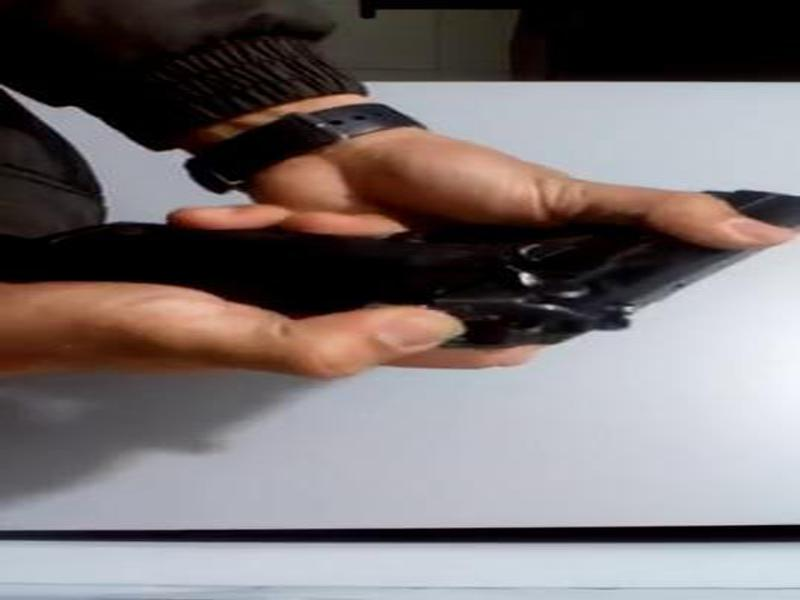Pistola: (39, 157, 800, 367)
